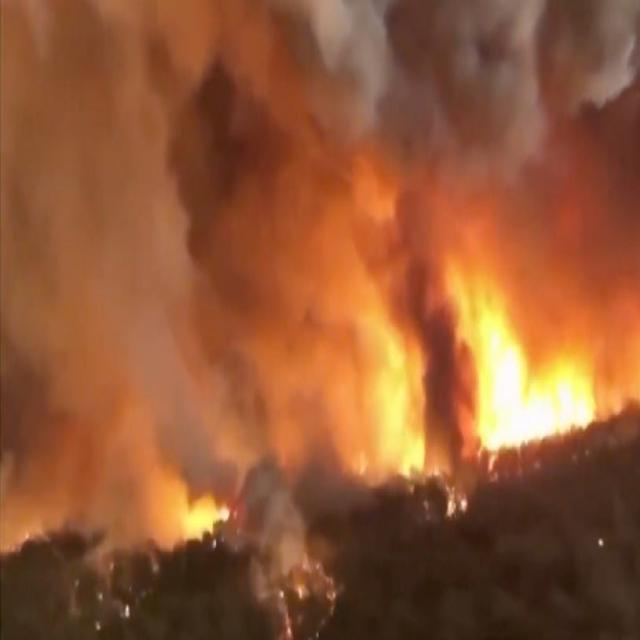Fire: (0, 0, 352, 553), (357, 196, 640, 483)
Smoke: (357, 0, 640, 185)
